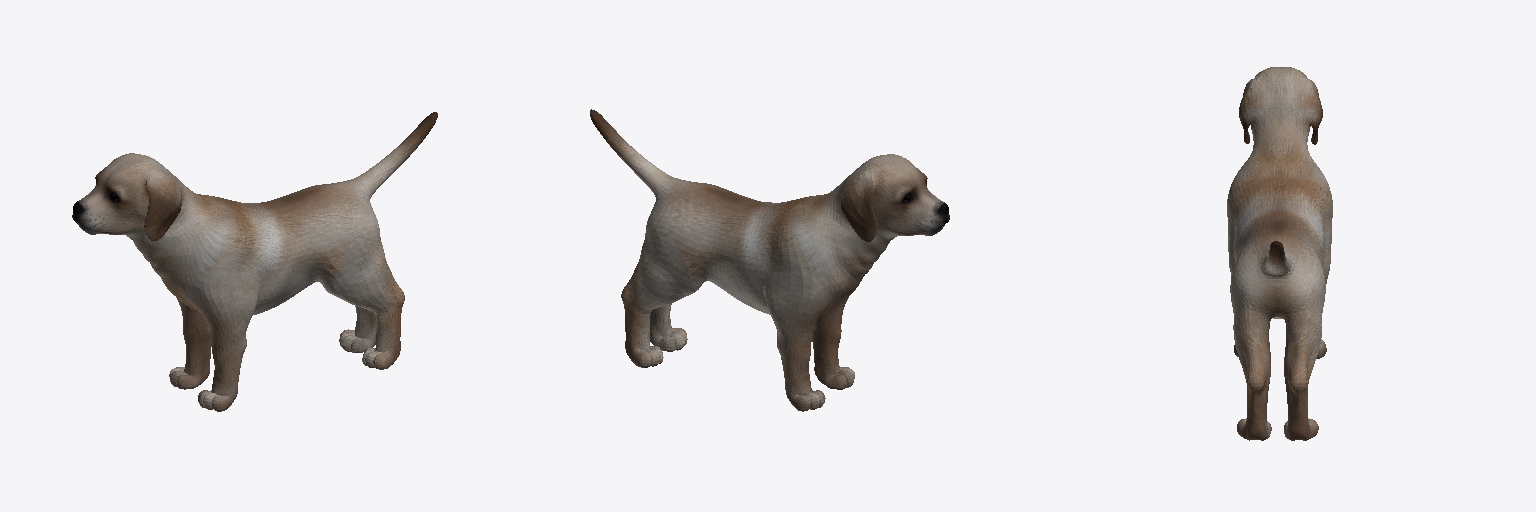
3 views of the same model, side by side, from view 1: azimuth 30°, elevation 25°; view 2: azimuth 150°, elevation 25°; view 3: azimuth 270°, elevation 25° (orthographic).
Visible parts, largest first — view 1: Mesh1 Grupo1_1_1 Model; view 2: Mesh1 Grupo1_1_1 Model; view 3: Mesh1 Grupo1_1_1 Model.
Boxes of the visible parts, x1,y1,x2,y2 form: Mesh1 Grupo1_1_1 Model: [72, 112, 437, 411]; Mesh1 Grupo1_1_1 Model: [590, 109, 949, 411]; Mesh1 Grupo1_1_1 Model: [1227, 67, 1332, 440].
Bounding box in the file's own units: 219 × 147 × 55.98.
1 materials, 1 textured.